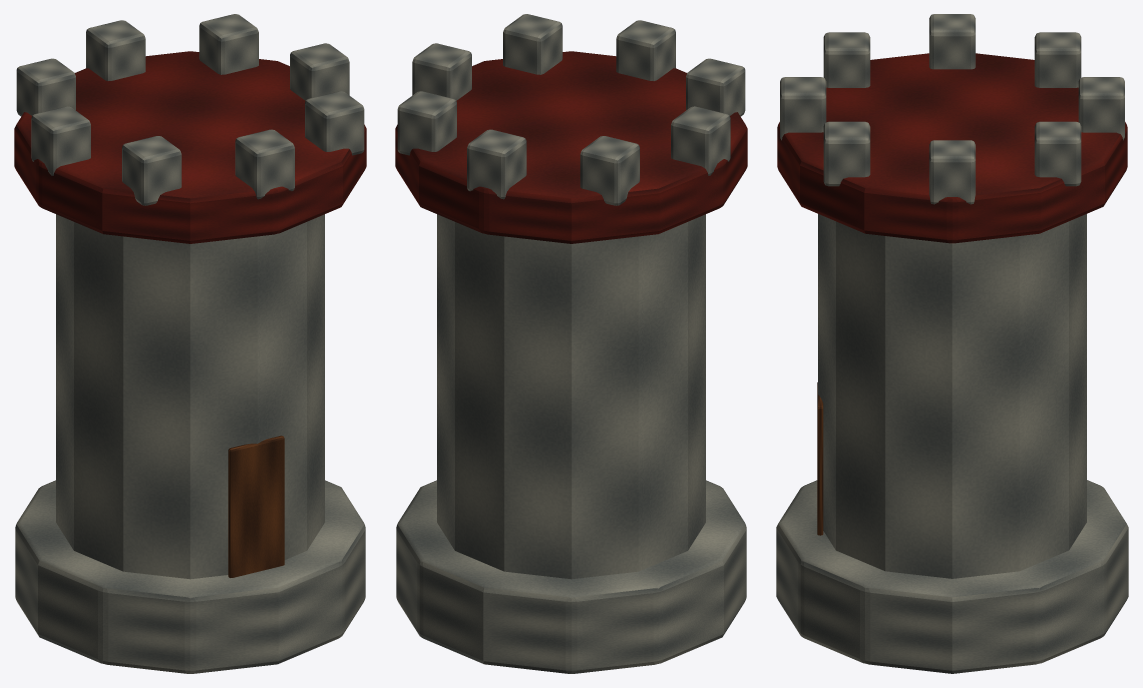
File: watchtower.glb
3 renders of one model, left to right at view 1: azimuth 30°, elevation 25°; view 2: azimuth 150°, elevation 25°; view 3: azimuth 270°, elevation 25°, orthographic.
Visible parts, largest first — view 1: Tower_Mesh; view 2: Tower_Mesh; view 3: Tower_Mesh.
Part boxes in pixels (x1,y1,x2,y2): Tower_Mesh: (14,14,366,673); Tower_Mesh: (395,14,747,673); Tower_Mesh: (776,14,1128,673).
Bounding box in the file's own units: 1.44 × 2.33 × 1.44.
Materials: 3 (3 with a texture image).
